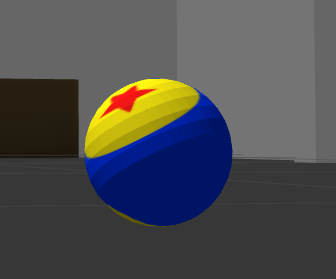toy story ball: (84, 79, 233, 227)
